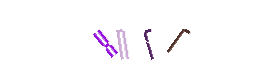N: (81, 0, 161, 80)
R: (100, 0, 180, 80), (123, 0, 203, 80)
X: (65, 0, 145, 80)
